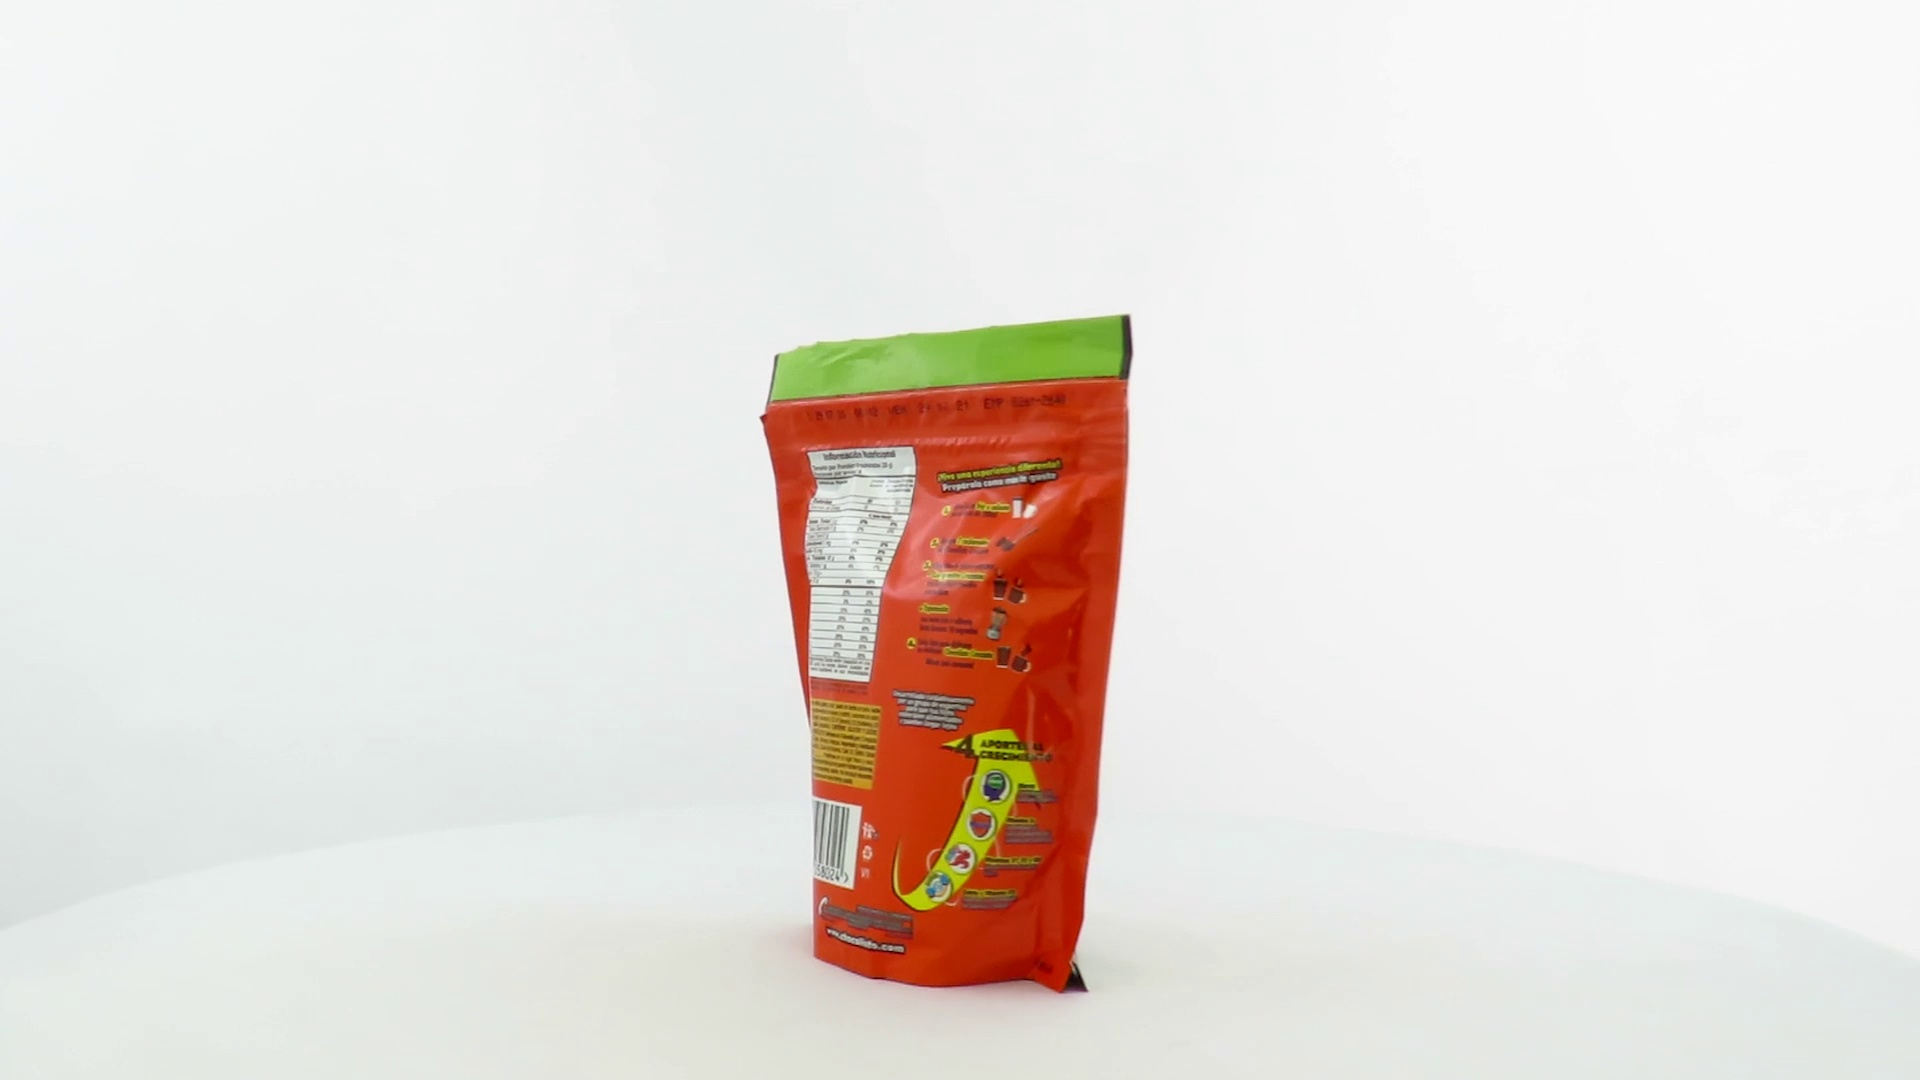COL0170102DYP10000: (756, 309, 1139, 1000)
